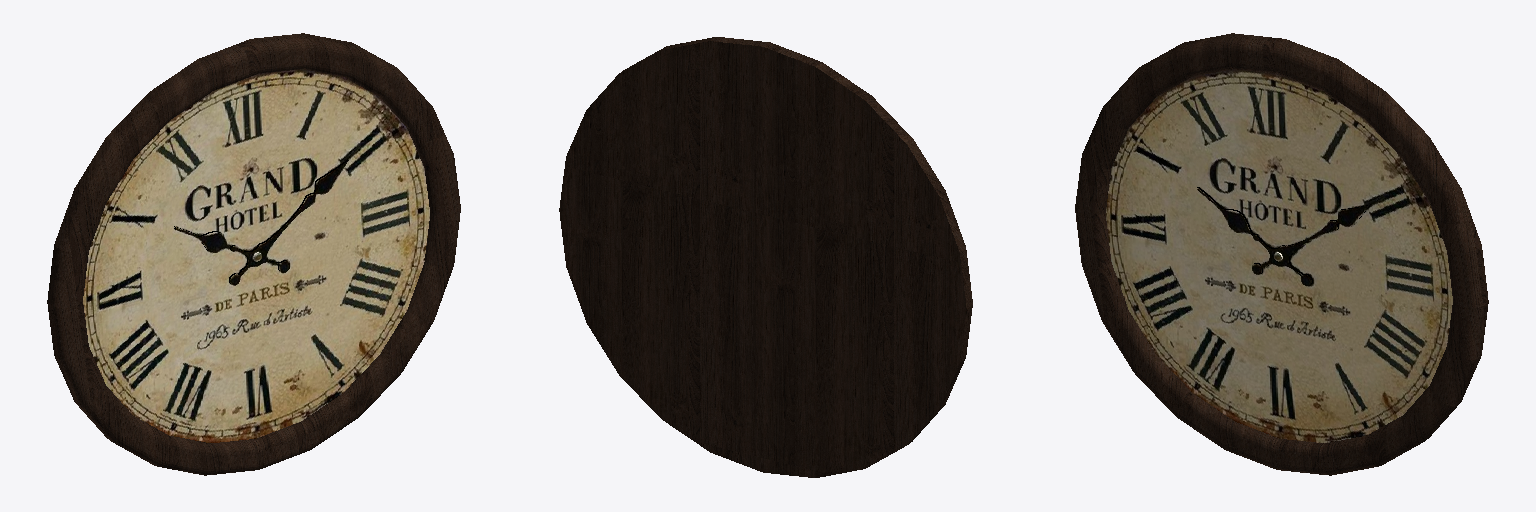
The picture shows the model from 3 angles: view 1: azimuth 30°, elevation 25°; view 2: azimuth 150°, elevation 25°; view 3: azimuth 330°, elevation 25°; orthographic projection.
Visible parts, largest first — view 1: Mesh1_REL_GIO_DE_PAREDE_OLD_PARIS_DUO_R__559_90_1_Model.002, Mesh1_REL_GIO_DE_PAREDE_OLD_PARIS_DUO_R__559_90_1_Model.001, Mesh1_REL_GIO_DE_PAREDE_OLD_PARIS_DUO_R__559_90_1_Model.004; view 2: Mesh1_REL_GIO_DE_PAREDE_OLD_PARIS_DUO_R__559_90_1_Model.001; view 3: Mesh1_REL_GIO_DE_PAREDE_OLD_PARIS_DUO_R__559_90_1_Model.002, Mesh1_REL_GIO_DE_PAREDE_OLD_PARIS_DUO_R__559_90_1_Model.001, Mesh1_REL_GIO_DE_PAREDE_OLD_PARIS_DUO_R__559_90_1_Model.004.
Boxes of the visible parts, box(x1,y1,x2,y2) form: Mesh1_REL_GIO_DE_PAREDE_OLD_PARIS_DUO_R__559_90_1_Model.002: box(83, 69, 429, 442); Mesh1_REL_GIO_DE_PAREDE_OLD_PARIS_DUO_R__559_90_1_Model.001: box(47, 33, 460, 475); Mesh1_REL_GIO_DE_PAREDE_OLD_PARIS_DUO_R__559_90_1_Model.004: box(176, 160, 348, 285); Mesh1_REL_GIO_DE_PAREDE_OLD_PARIS_DUO_R__559_90_1_Model.001: box(559, 37, 972, 477); Mesh1_REL_GIO_DE_PAREDE_OLD_PARIS_DUO_R__559_90_1_Model.002: box(1106, 69, 1452, 442); Mesh1_REL_GIO_DE_PAREDE_OLD_PARIS_DUO_R__559_90_1_Model.001: box(1075, 33, 1488, 475); Mesh1_REL_GIO_DE_PAREDE_OLD_PARIS_DUO_R__559_90_1_Model.004: box(1197, 188, 1369, 285).
Size of the model in its own units: 11.48 by 11.48 by 0.5204.
Materials: 5 (3 with a texture image).